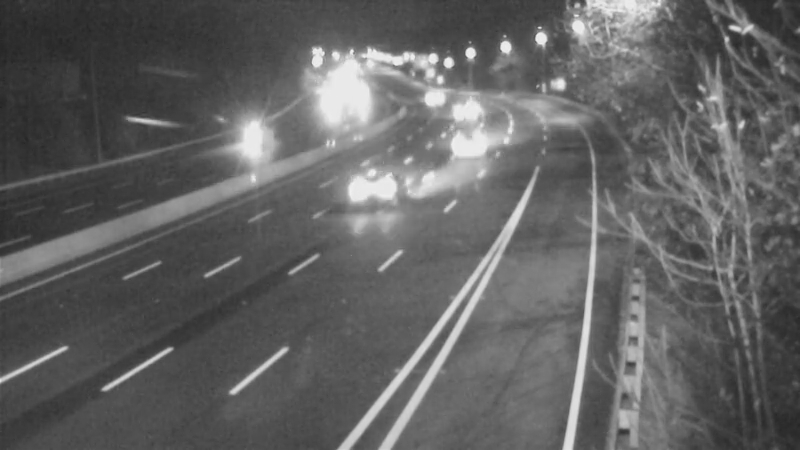vehicle: (348, 135, 428, 215), (408, 67, 458, 117), (435, 83, 485, 133), (447, 115, 497, 165), (222, 118, 272, 168)
